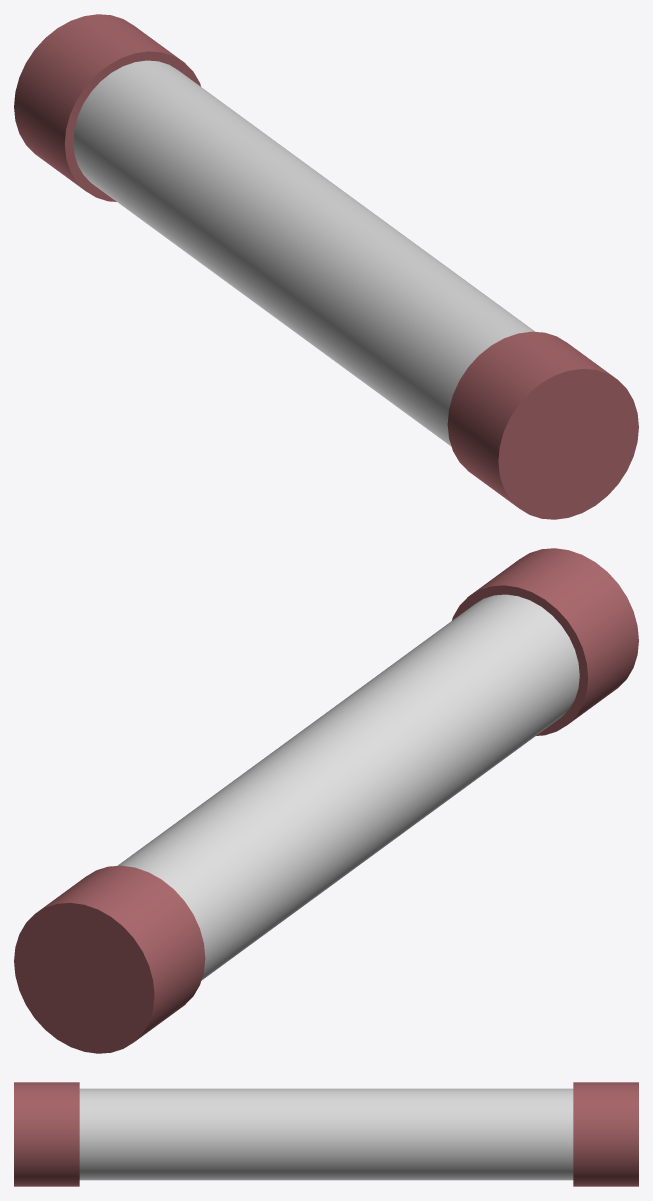
Rendered from 1fuseRed.fbx.
3 views of the same model, one above another, from view 1: azimuth 30°, elevation 25°; view 2: azimuth 150°, elevation 25°; view 3: azimuth 270°, elevation 25° (orthographic). The views are drawn at different scales.
Parts seen in each view (by area): view 1: 円柱; view 2: 円柱; view 3: 円柱.
Boxes of the visible parts, box(x1,y1,x2,y2) form: 円柱: box(14, 14, 638, 519); 円柱: box(14, 548, 638, 1053); 円柱: box(14, 1082, 638, 1186).
Bounding box in the file's own units: 237 × 237 × 1416.
